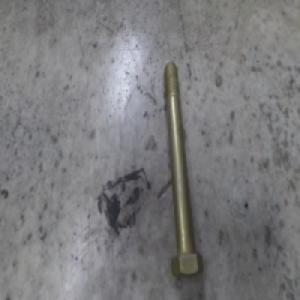Bolt: (163, 55, 203, 274)
